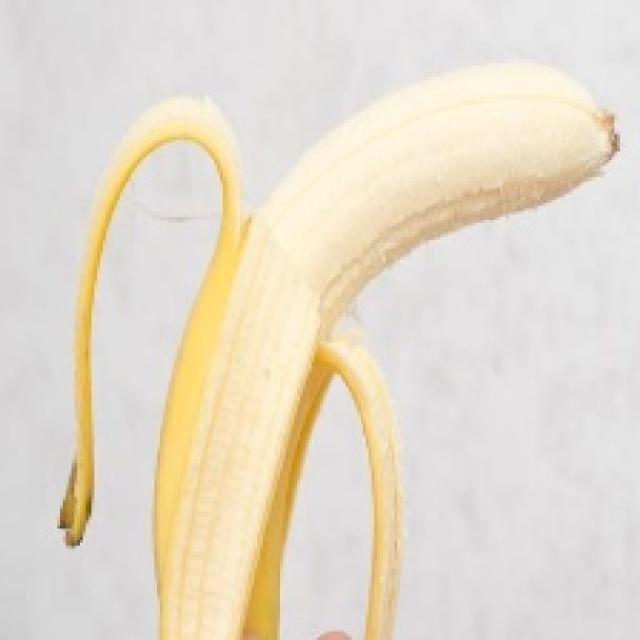Banana: (57, 57, 620, 637)
